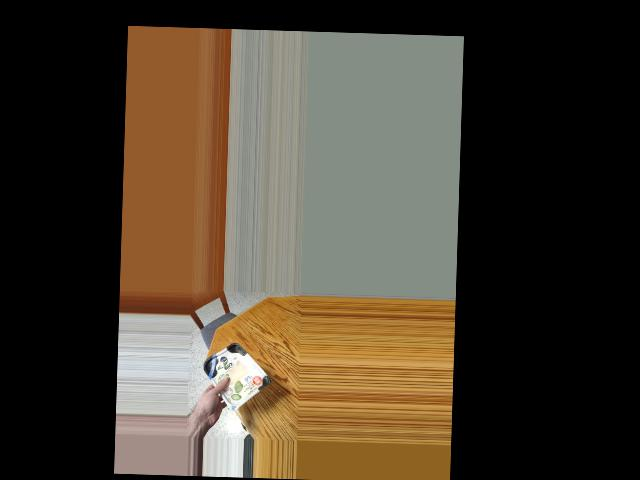cheese: (207, 341, 264, 400)
